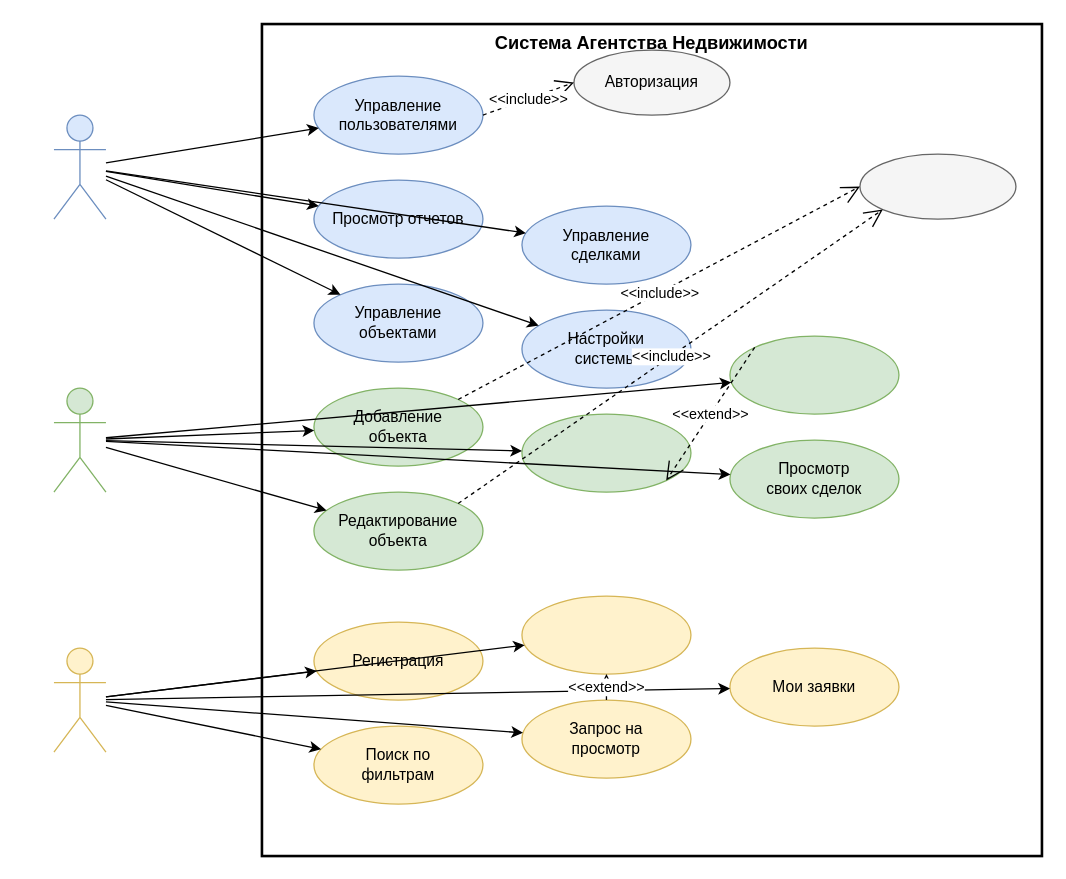
Some shapes in this 1066 by 879 pixel diagram are drawn without their labels. Each missing label, with the centre of its shape:
"Агент (Риэлтор)" goes at pixel 79 439.
"Администратор" goes at pixel 79 166.
"Валидация данных" goes at pixel 937 186.
"Клиент" goes at pixel 79 699.
"Поиск объектов" goes at pixel 606 452.
"Просмотр объектов" goes at pixel 606 634.
"Создание сделки" goes at pixel 814 374.
